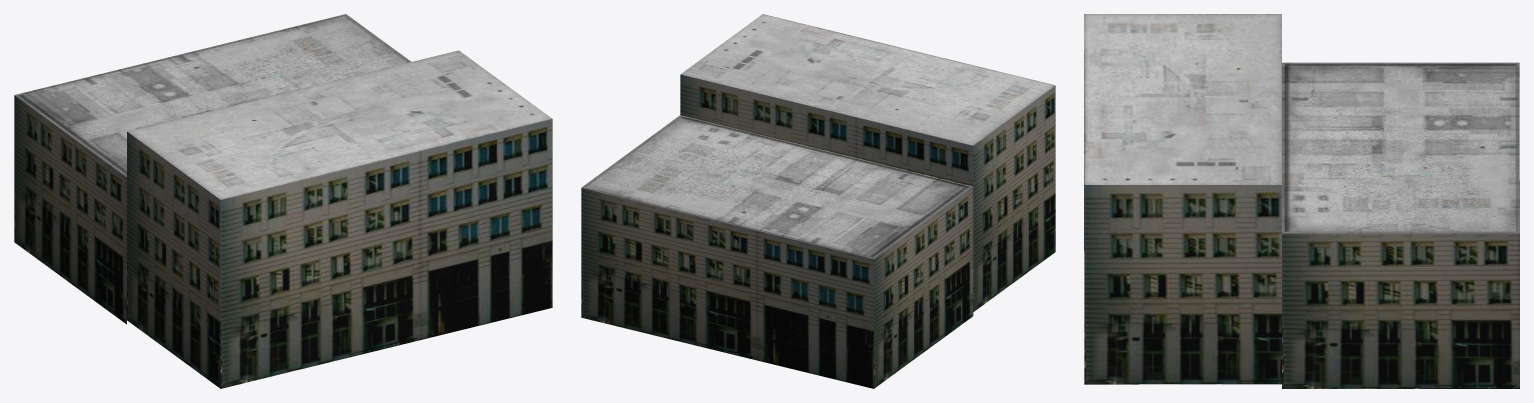
3 renders of one model, left to right at view 1: azimuth 30°, elevation 25°; view 2: azimuth 150°, elevation 25°; view 3: azimuth 270°, elevation 25°, orthographic. The views are drawn at different scales.
Visible parts, largest first — view 1: FacadeTexture, FlatRoofTexture (×2); view 2: FacadeTexture, FlatRoofTexture (×2); view 3: FacadeTexture, FlatRoofTexture (×2).
Boxes of the visible parts, left/top/right/bottom form: FacadeTexture: left=14, top=95, right=552, bottom=388; FlatRoofTexture (×2): left=14, top=14, right=552, bottom=199; FacadeTexture: left=581, top=74, right=1055, bottom=388; FlatRoofTexture (×2): left=581, top=14, right=1055, bottom=258; FacadeTexture: left=1084, top=52, right=1519, bottom=388; FlatRoofTexture (×2): left=1084, top=14, right=1519, bottom=233.
Bounding box in the file's own units: 1068 × 594 × 1150.
3 materials, 3 textured.
